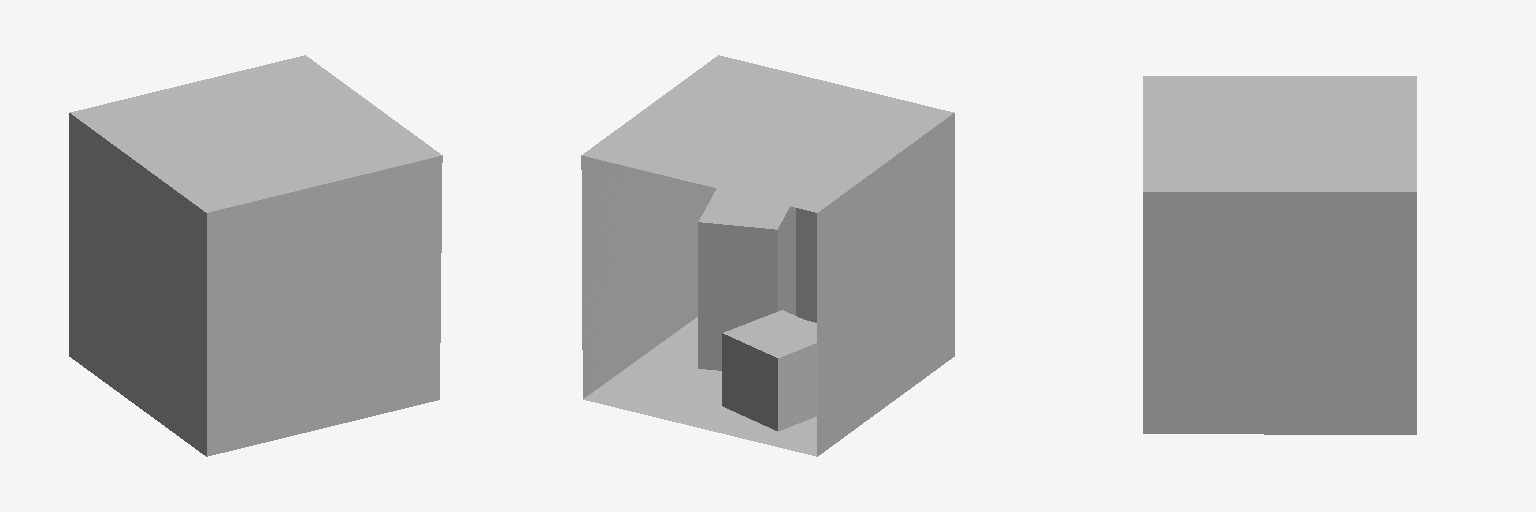
The model's file is cornell_tesselated.obj.
3 renders of one model, left to right at view 1: azimuth 30°, elevation 25°; view 2: azimuth 150°, elevation 25°; view 3: azimuth 270°, elevation 25°, orthographic.
Visible parts, largest first — view 1: back_wall, green_wall, ceiling; view 2: green_wall, ceiling, red_wall, tall_block, floor, short_block, back_wall; view 3: red_wall, ceiling.
Part boxes in pixels (x1,y1,x2,y2): back_wall: (207, 155, 442, 456); green_wall: (69, 113, 206, 456); ceiling: (70, 55, 441, 212); green_wall: (817, 113, 954, 456); ceiling: (582, 55, 953, 212); red_wall: (581, 155, 716, 398); tall_block: (698, 189, 795, 370); floor: (583, 317, 816, 456); short_block: (722, 310, 816, 431); back_wall: (796, 208, 816, 322); red_wall: (1143, 192, 1416, 434); ceiling: (1143, 76, 1416, 191).
Size of the model in its own units: 556 by 549 by 559.